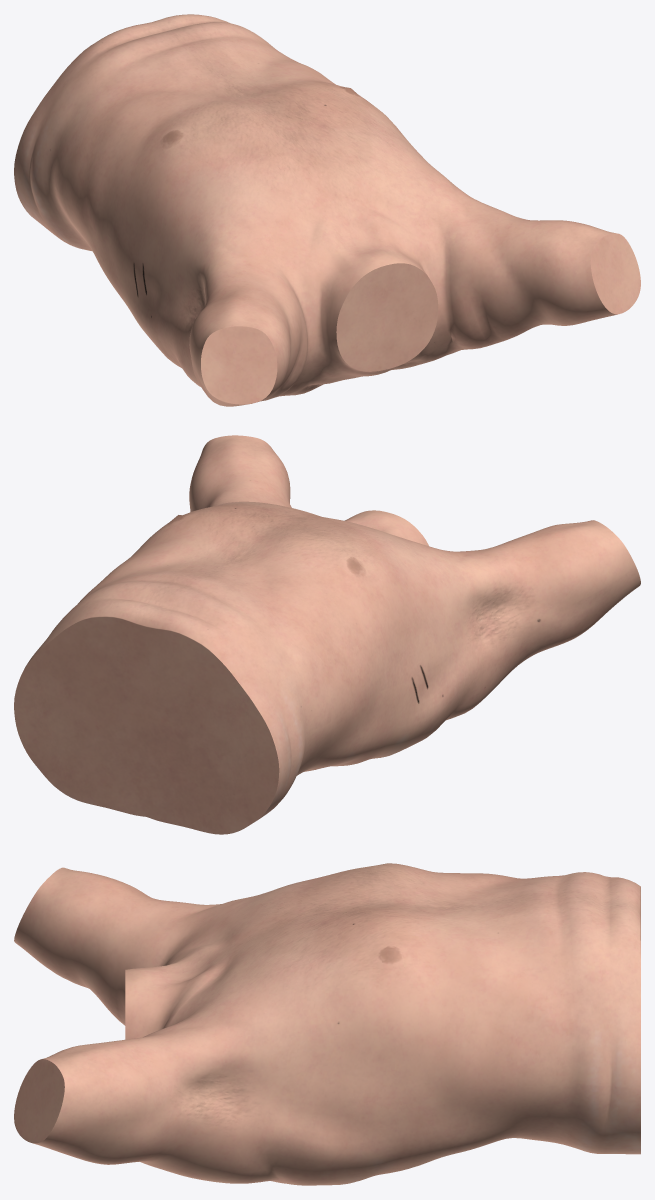
File: Bundle.fbx
The picture shows the model from 3 angles, top to bottom: view 1: azimuth 30°, elevation 25°; view 2: azimuth 150°, elevation 25°; view 3: azimuth 270°, elevation 25°; orthographic projection. The views are drawn at different scales.
Visible parts, largest first — view 1: Torso; view 2: Torso; view 3: Torso.
Part boxes in pixels (<box>): Torso: <box>14,14,640,406</box>; Torso: <box>14,435,640,834</box>; Torso: <box>14,863,640,1185</box>.
Bounding box in the file's own units: 50.86 × 26.02 × 58.98.
